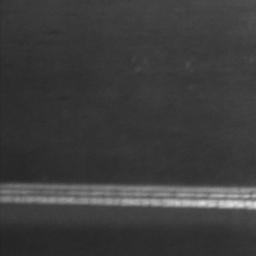Bright scratch: (0, 184, 256, 211)
